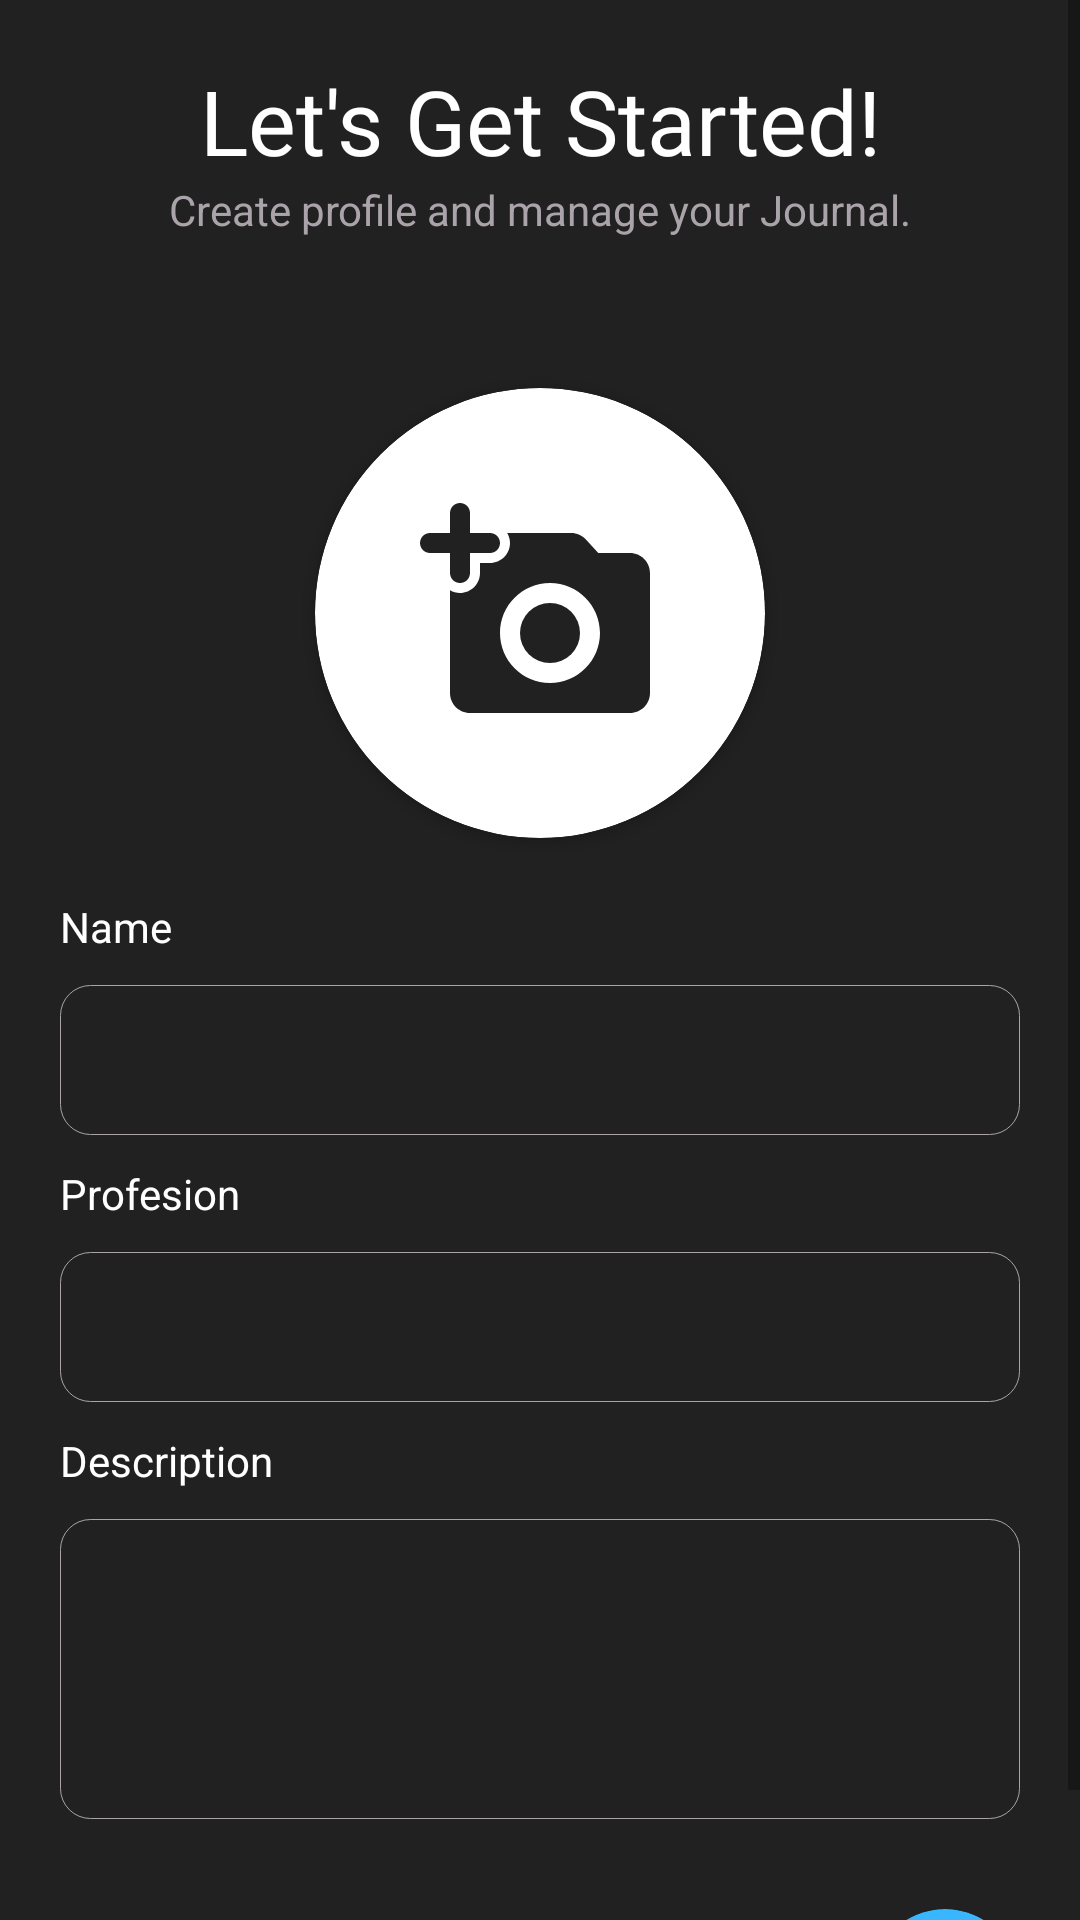

Icons on this 1080 × 1920 Android screen, each with the point to tap as point (x, y):
addpic: point (535, 608)
